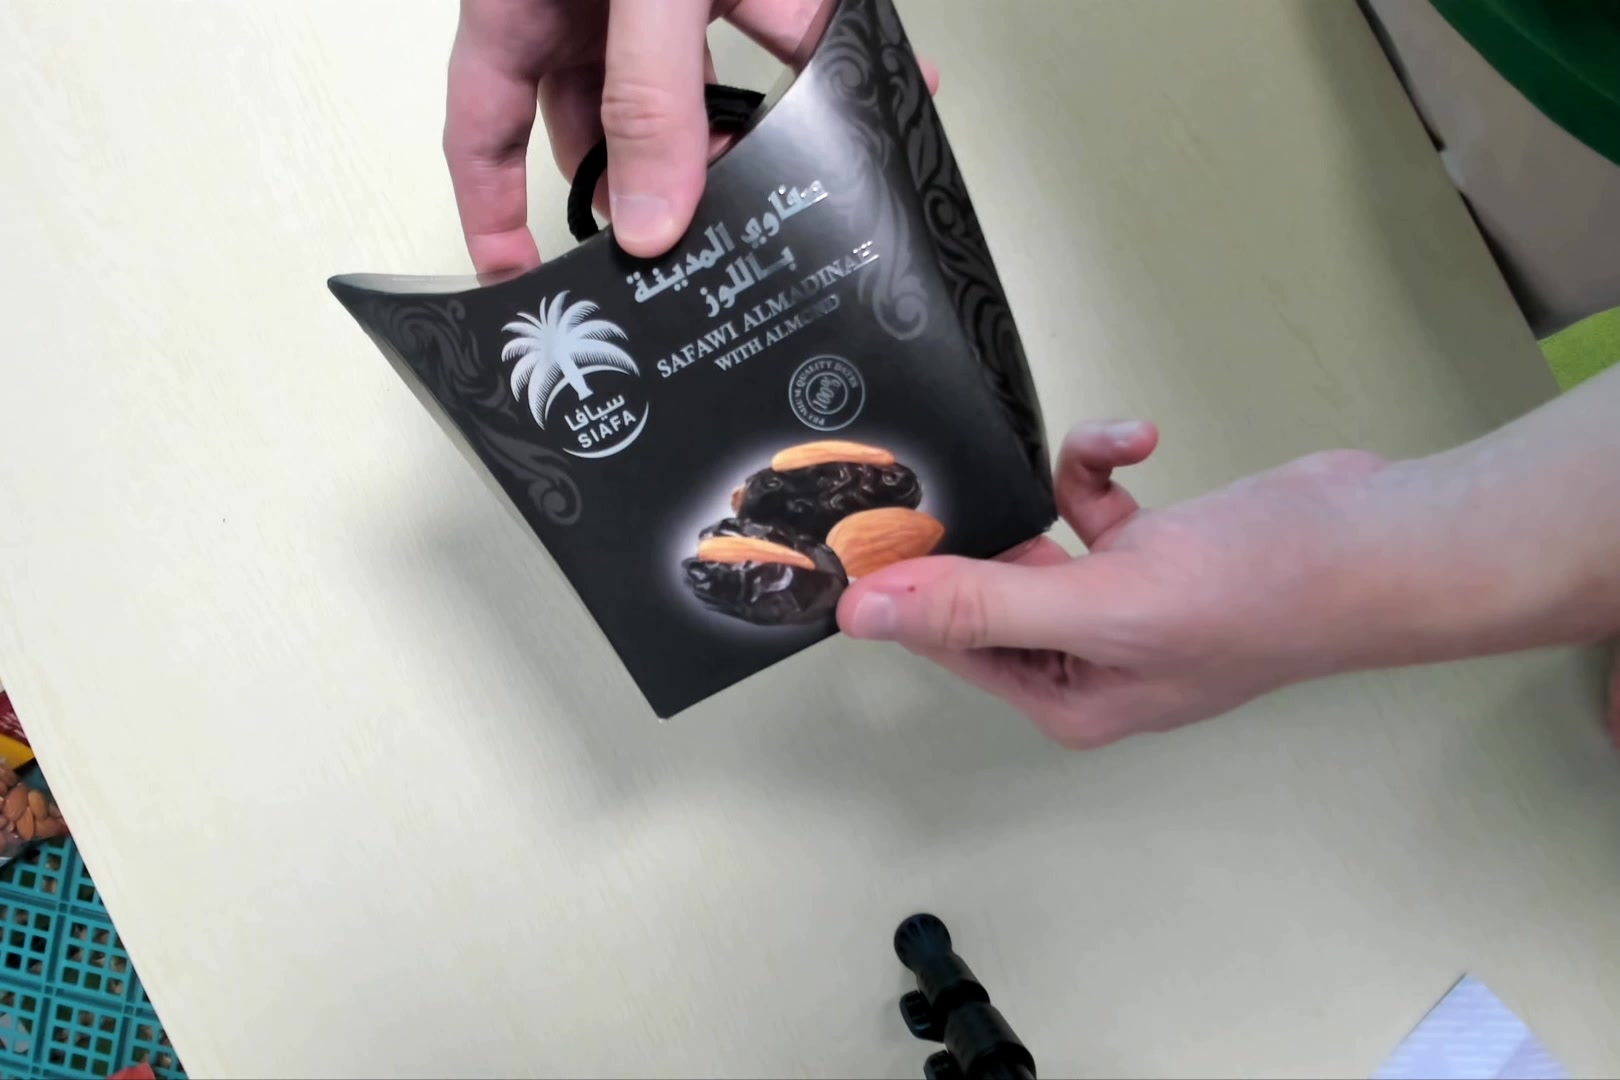DriedFood_100-199g_NonHalal_NonHealthy: (329, 7, 1064, 710)
